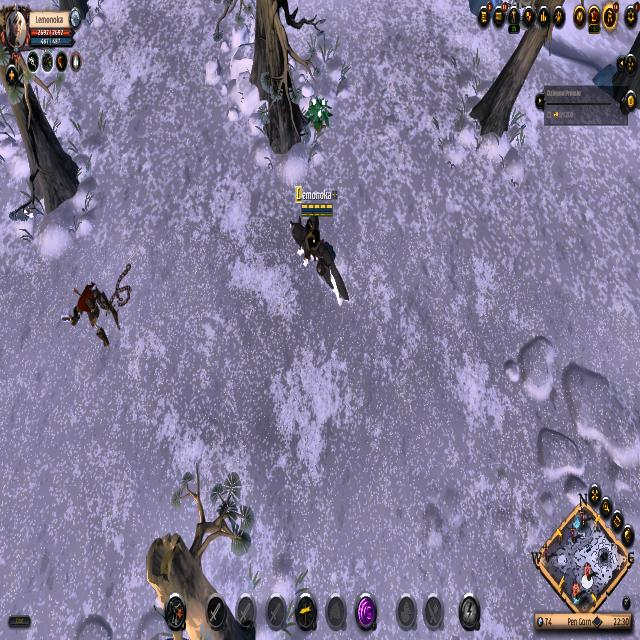fiber tier 3: (306, 95, 332, 135)
